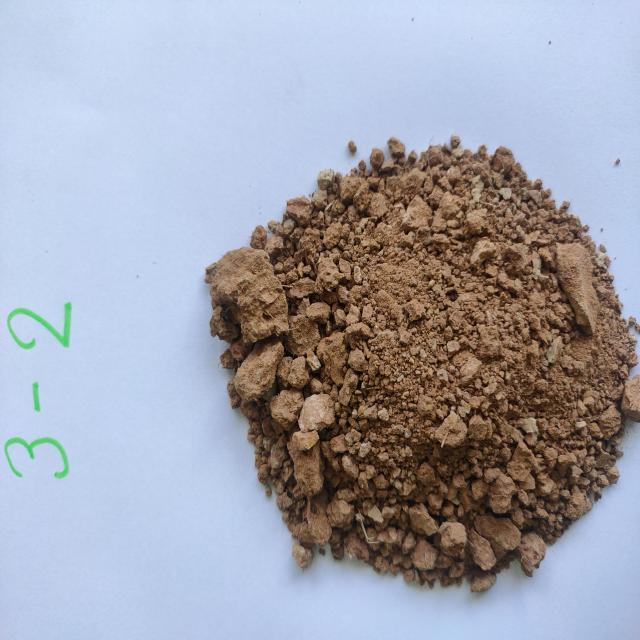soil: (301, 233, 565, 512)
